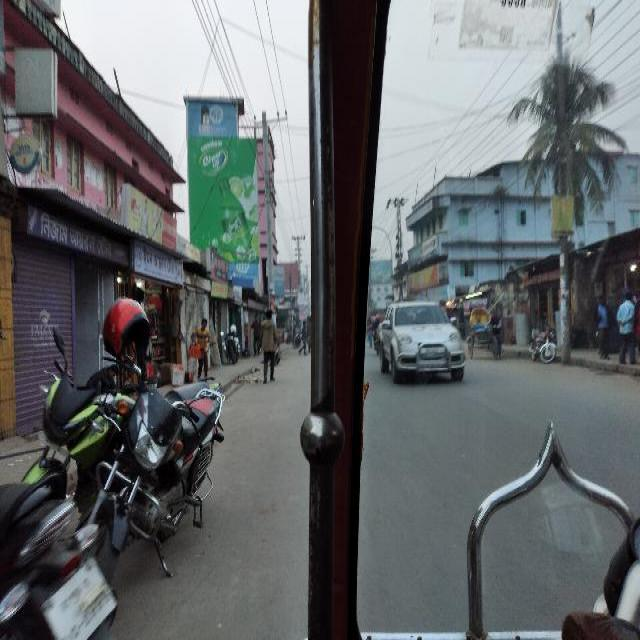bike: (106, 352, 232, 594), (18, 336, 147, 490), (4, 479, 124, 638), (531, 325, 557, 365), (221, 326, 242, 364)
vehicle: (378, 300, 468, 385), (468, 306, 503, 365)
